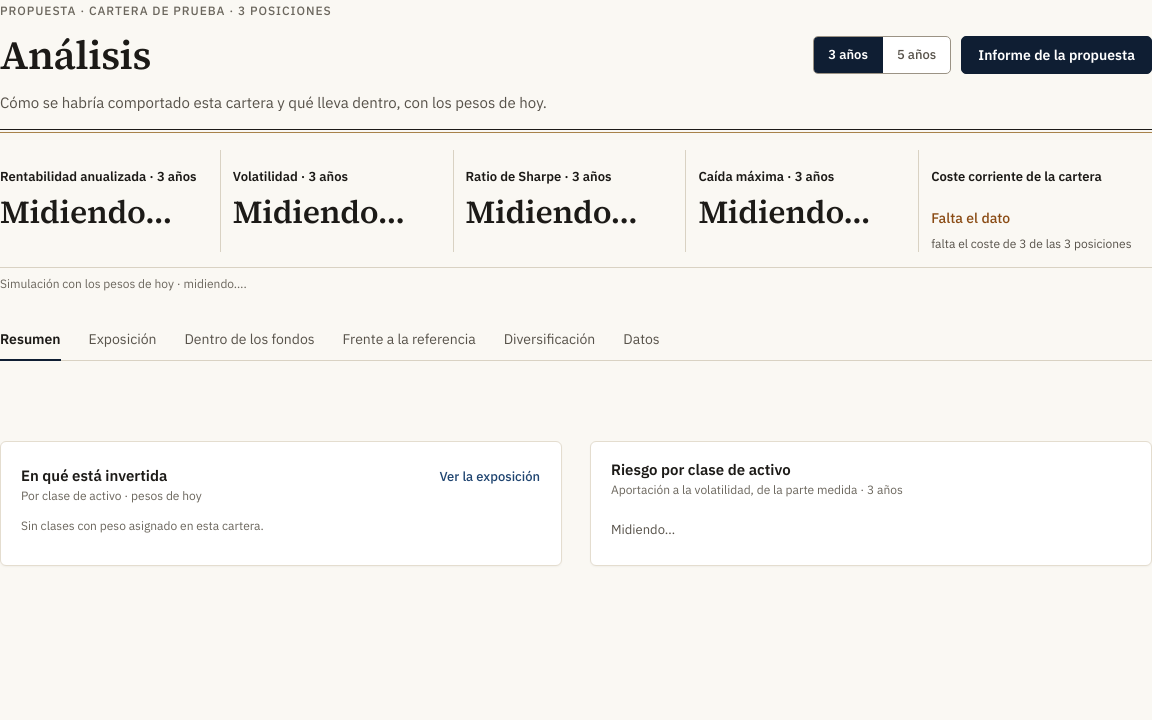
Test: informe de cliente: las dos puertas entregan la misma entrada (ANA-01) › en Análisis, como en Informes, el diálogo no se cierra mientras se genera: ni con Escape ni con la X (ANA-12)
Later steps or results of the test are not shown.
Click the button "Informe de la propuesta" at (1057, 55), box [961,36,1151,74]
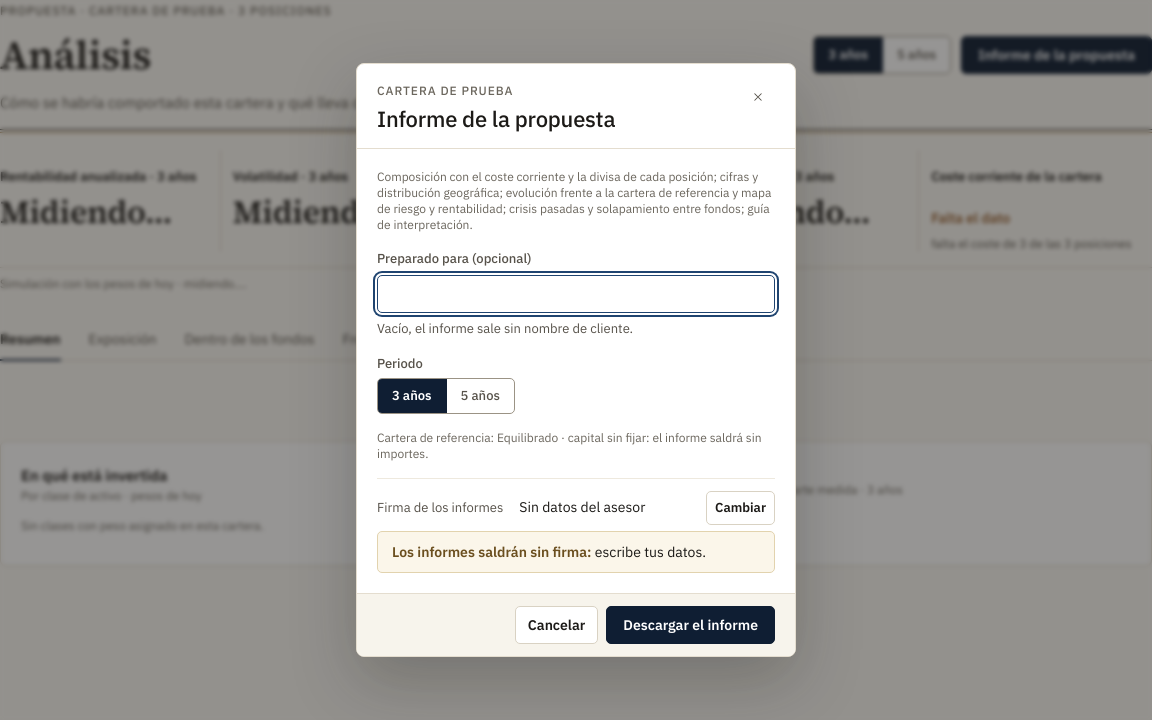
Click the button "Descargar el informe" at (691, 625), box [606,606,775,644]
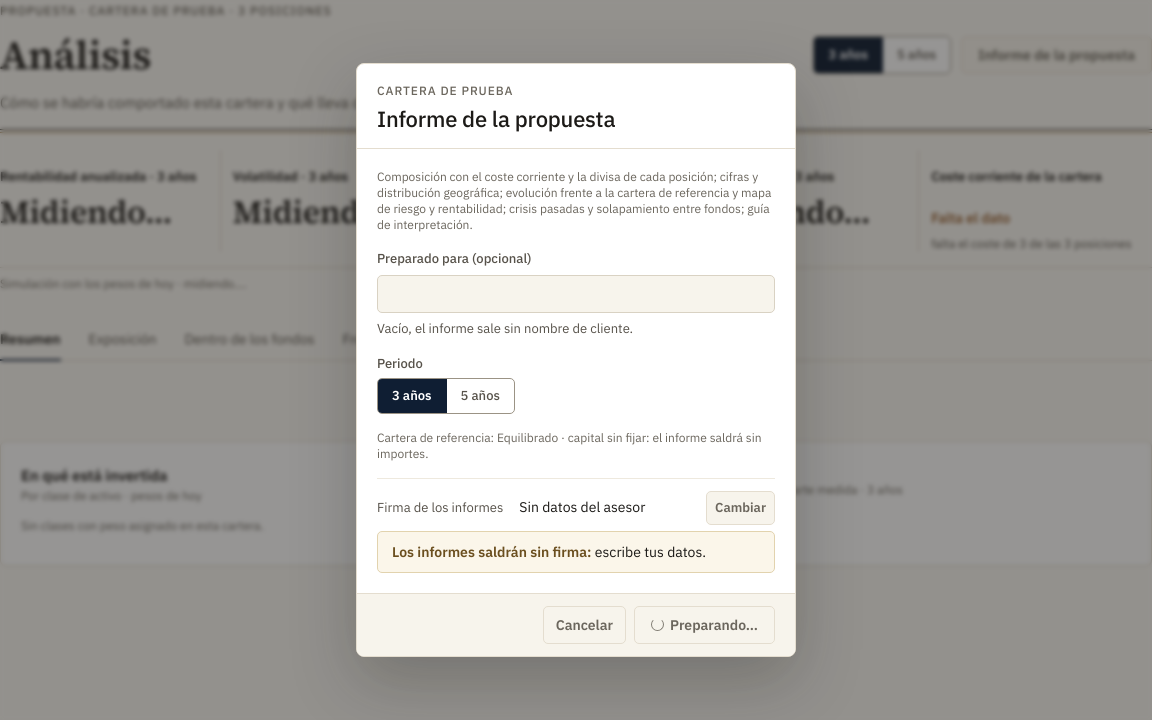
expect the button named "Cerrar" is gone: met
Press Escape in the dialog, box [356,63,796,657]
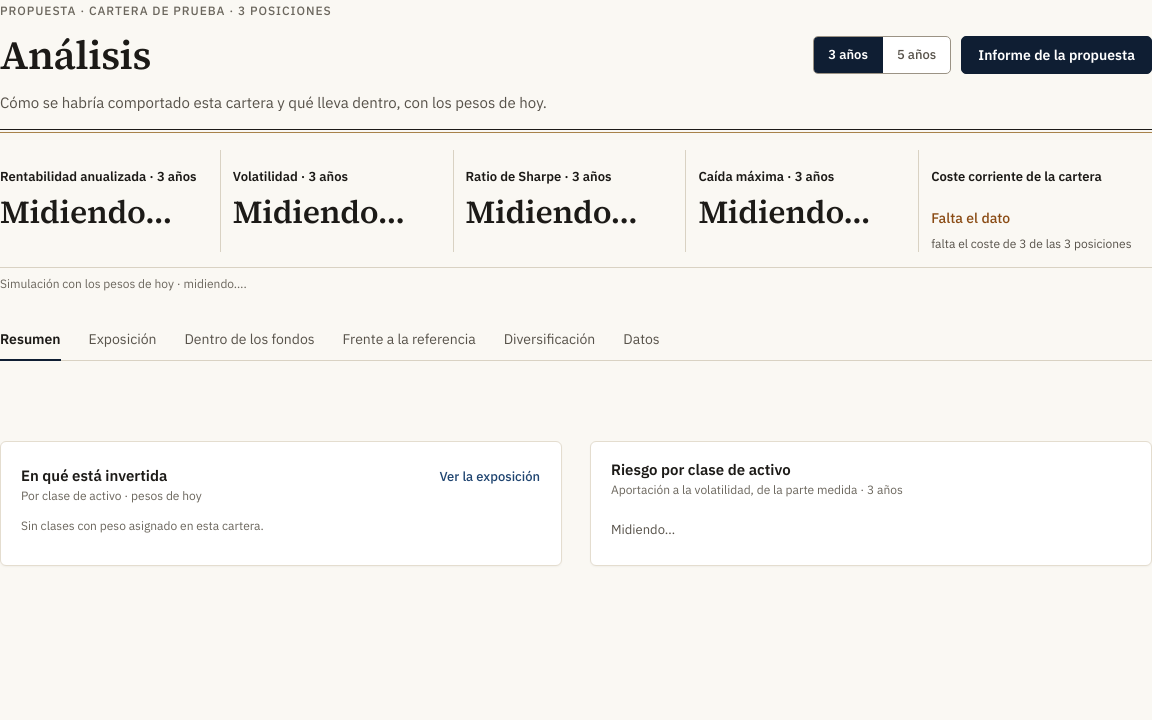
expect the dialog is gone: met
